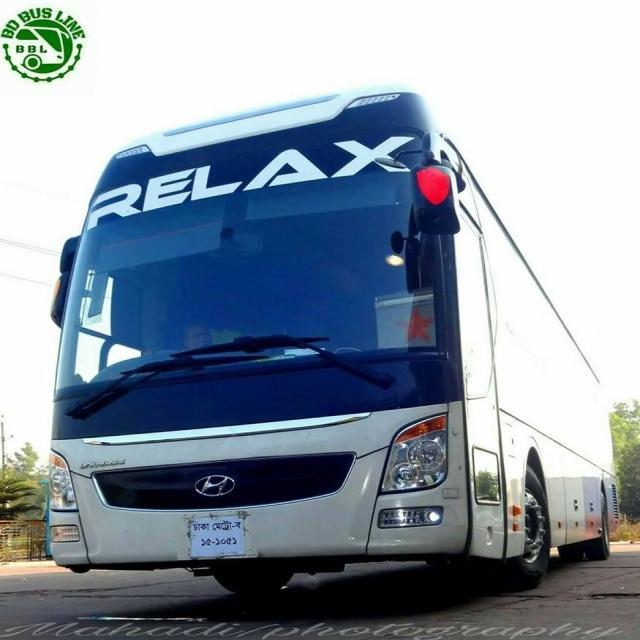bus: (40, 79, 621, 597)
